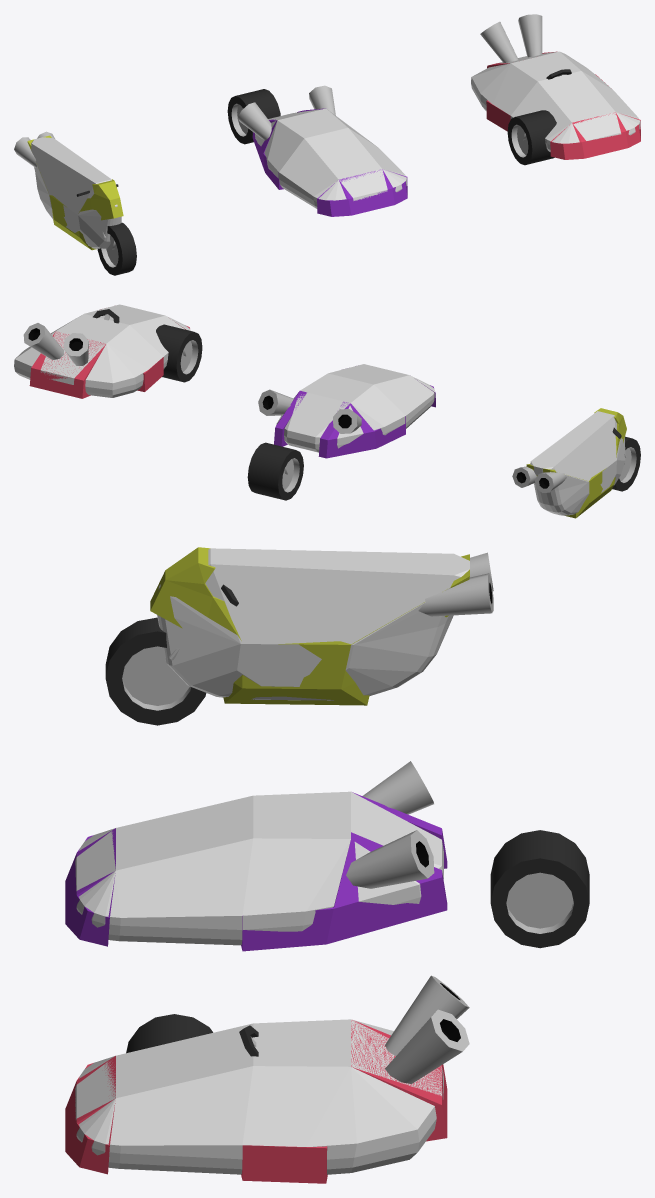
The model's file is Karts.fbx.
3 renders of one model, top to bottom at view 1: azimuth 30°, elevation 25°; view 2: azimuth 150°, elevation 25°; view 3: azimuth 270°, elevation 25°, orthographic. The views are drawn at different scales.
Parts seen in each view (by area): view 1: 3WheelerCol, KartCol, BikeCol, Kart, 3Wheeler, Bike, KartWheel, BikeWheel, 3WheelerWheel; view 2: KartCol, 3WheelerCol, BikeCol, Kart, 3Wheeler, 3WheelerWheel, Bike, KartWheel, BikeWheel; view 3: KartCol, 3WheelerCol, BikeCol, 3Wheeler, Kart, Bike, 3WheelerWheel, BikeWheel, KartWheel.
Part boxes in pixels (box(x1,y1,x2,y2)): 3WheelerCol: box(255, 108, 406, 208); KartCol: box(471, 51, 640, 151); BikeCol: box(31, 137, 121, 248); Kart: box(480, 14, 640, 159); 3Wheeler: box(237, 85, 407, 216); Bike: box(14, 131, 123, 250); KartWheel: box(507, 110, 556, 165); BikeWheel: box(97, 222, 136, 275); 3WheelerWheel: box(227, 89, 280, 144); KartCol: box(14, 304, 190, 397); 3WheelerCol: box(276, 364, 434, 452); BikeCol: box(530, 411, 625, 515); Kart: box(23, 309, 189, 398); 3Wheeler: box(258, 380, 435, 458); 3WheelerWheel: box(247, 442, 303, 500); Bike: box(512, 408, 626, 518); KartWheel: box(156, 324, 202, 382); BikeWheel: box(612, 436, 640, 491); KartCol: box(75, 1019, 443, 1174); 3WheelerCol: box(75, 791, 443, 945); BikeCol: box(157, 548, 469, 700); 3Wheeler: box(65, 761, 447, 951); Kart: box(65, 975, 469, 1183); Bike: box(150, 547, 493, 705); 3WheelerWheel: box(490, 830, 589, 948); BikeWheel: box(105, 617, 206, 725); KartWheel: box(126, 1014, 212, 1053).
Size of the model in its own units: 11.6 by 1.82 by 4.87.
